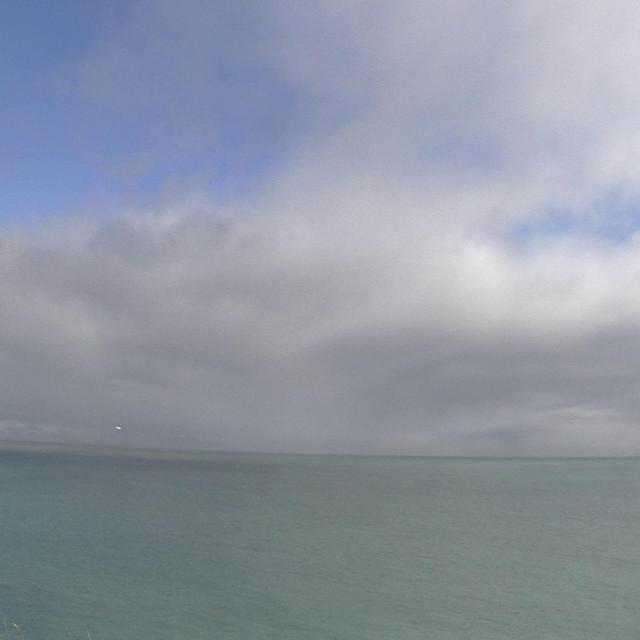drone: (115, 422, 124, 434)
